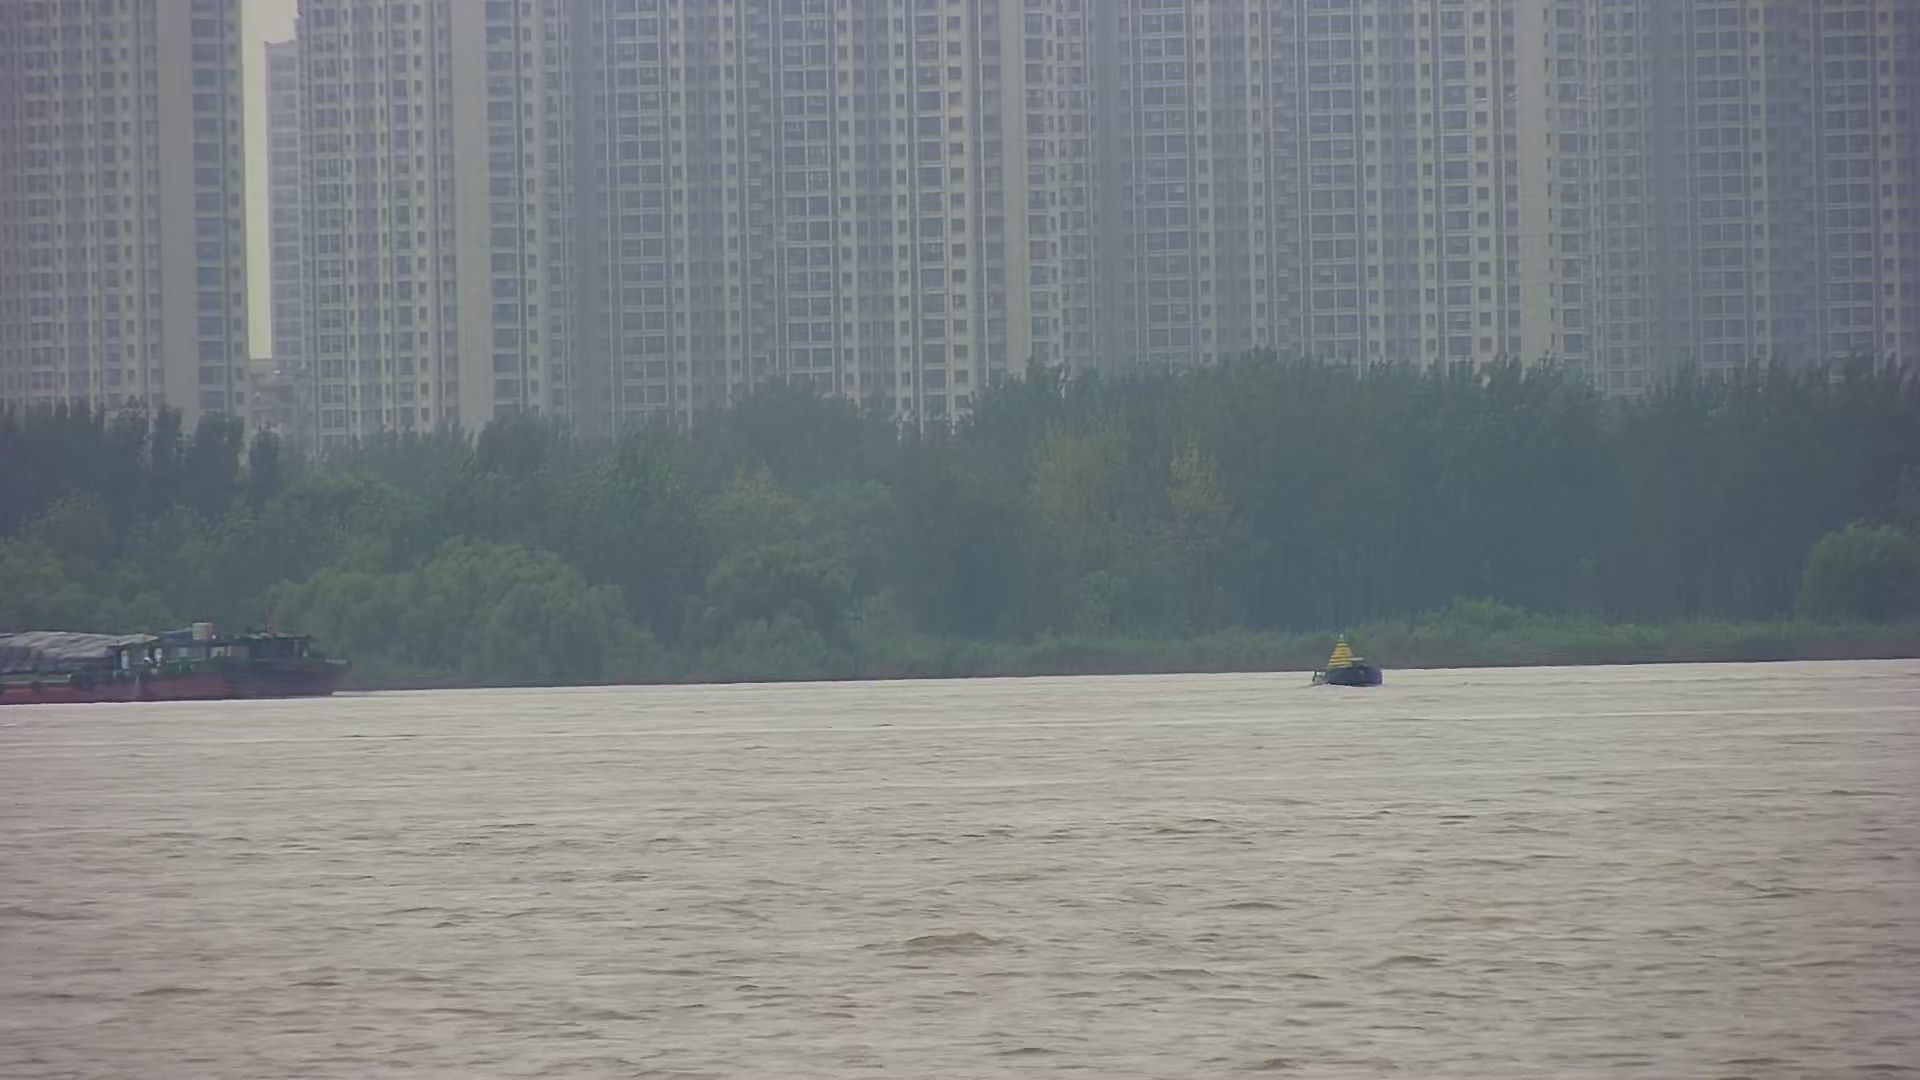boat: (1307, 632, 1382, 688)
ship: (1, 626, 355, 703)
